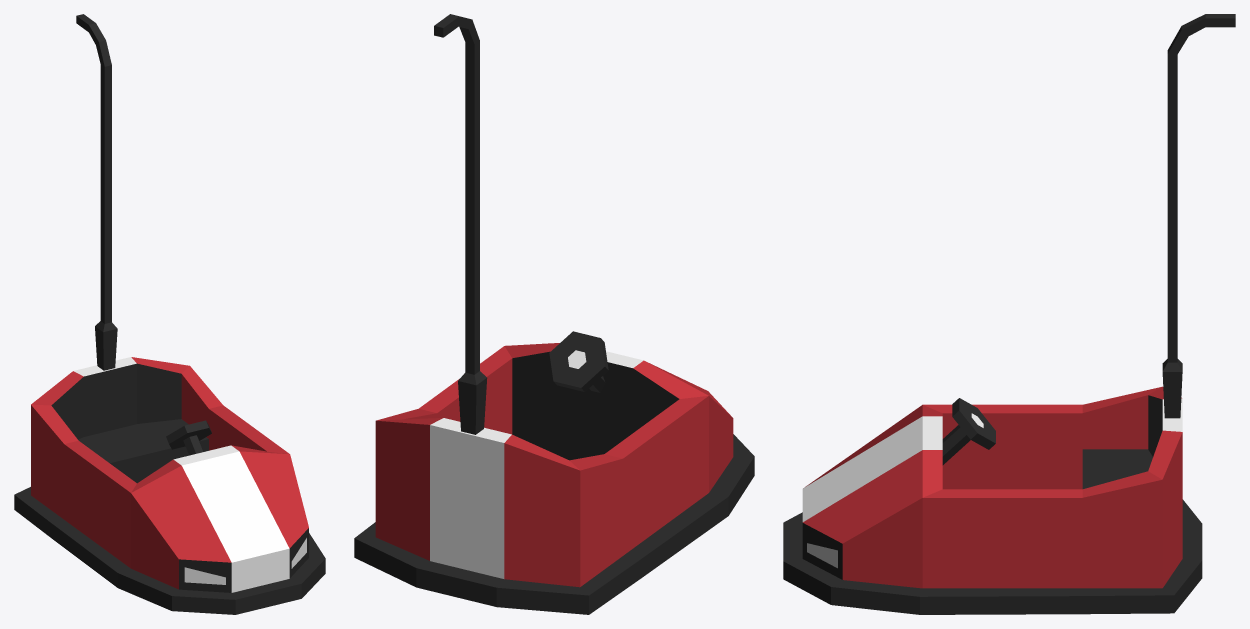
Rendered from vehicles_bumper-car.fbx.
3 views of the same model, side by side, from view 1: azimuth 30°, elevation 25°; view 2: azimuth 150°, elevation 25°; view 3: azimuth 270°, elevation 25° (orthographic). The views are drawn at different scales.
Visible parts, largest first — view 1: vehicles_bumper_car; view 2: vehicles_bumper_car; view 3: vehicles_bumper_car.
Part boxes in pixels (<box>): vehicles_bumper_car: <box>14,14,325,614</box>; vehicles_bumper_car: <box>354,14,754,614</box>; vehicles_bumper_car: <box>783,14,1235,614</box>.
Size of the model in its own units: 86.6 by 200 by 151.
